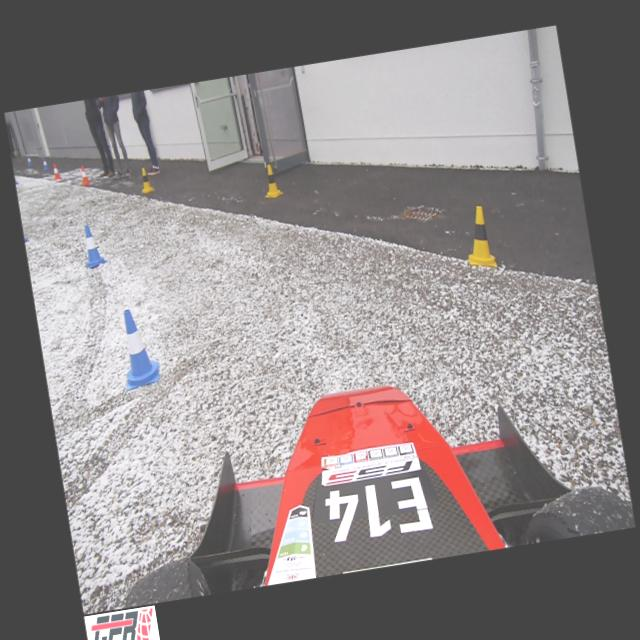blue_cone: (115, 306, 162, 390), (80, 223, 108, 269), (42, 158, 49, 170), (27, 154, 32, 166), (15, 178, 19, 185)
orange_cone: (78, 164, 92, 186), (52, 163, 62, 180)
yellow_cone: (460, 205, 498, 271), (261, 164, 283, 198), (138, 166, 154, 193)
